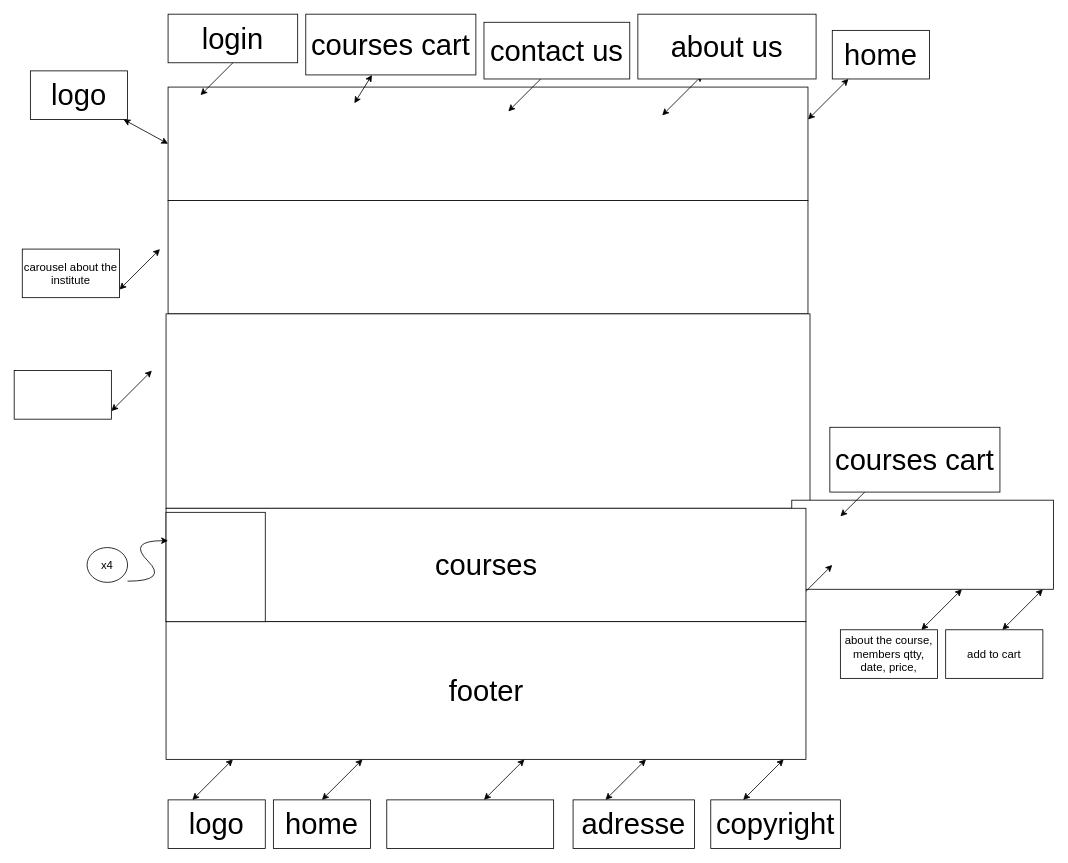
Image size: 1068x863. Some labels were removed from this diagram. The shapes that lost their labels are listed below. From the top down, each one's centre as x and y in pixels, then its label:
At [487,143]: "navbar".
At [487,257]: "hero section".
At [62,394]: "about the institute and its history".
At [487,410]: "content".
At [922,544]: "course details".
At [215,567]: "course: course price, img, lenguage,".
At [470,823]: "sozial media".
